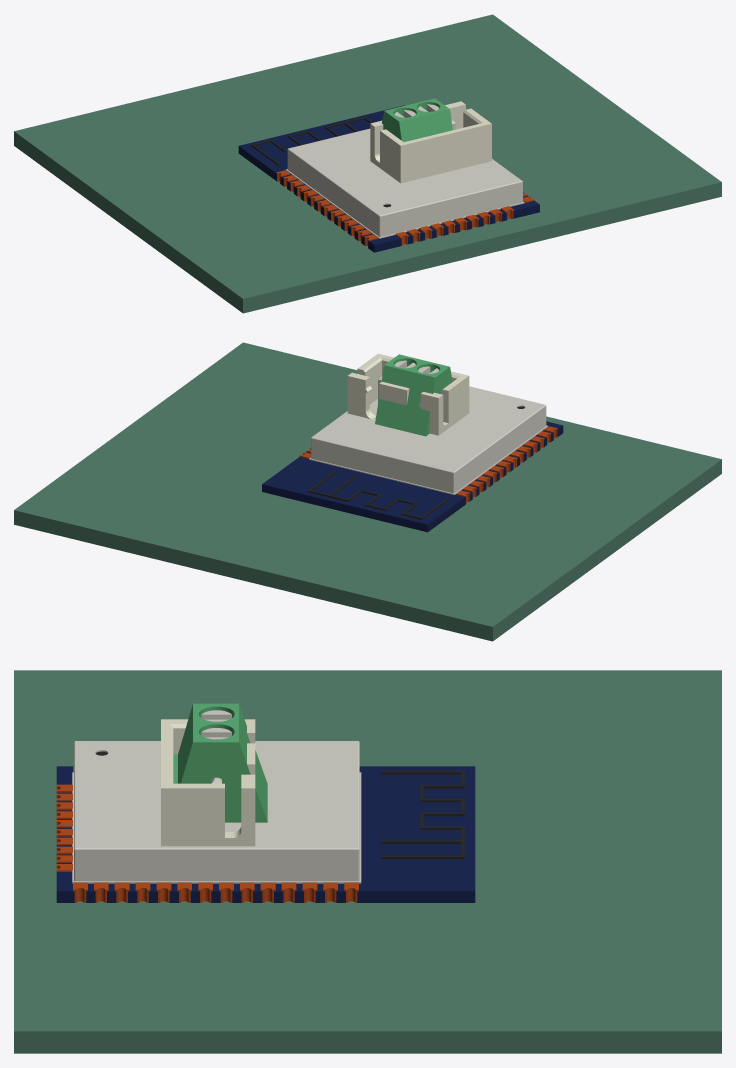
File: board2.glb
3 renders of one model, top to bottom at view 1: azimuth 30°, elevation 25°; view 2: azimuth 150°, elevation 25°; view 3: azimuth 270°, elevation 25°, orthographic. The views are drawn at different scales.
Visible parts, largest first — view 1: =>[0:1:1:7], U1, J3, J4; view 2: =>[0:1:1:7], U1, J3, J4; view 3: =>[0:1:1:7], U1, J3, J4.
Boxes of the visible parts, x1,y1,x2,y2 form: =>[0:1:1:7]: (14,14,721,313); U1: (238,105,539,252); J3: (370,101,491,183); J4: (382,98,452,141); =>[0:1:1:7]: (14,342,721,641); U1: (262,386,563,532); J3: (347,353,469,435); J4: (375,354,452,436); =>[0:1:1:7]: (14,670,721,1053); U1: (56,741,475,902); J3: (161,719,255,846); J4: (173,703,267,822).
Bounding box in the file's own units: 0.052 × 0.012 × 0.0431.
